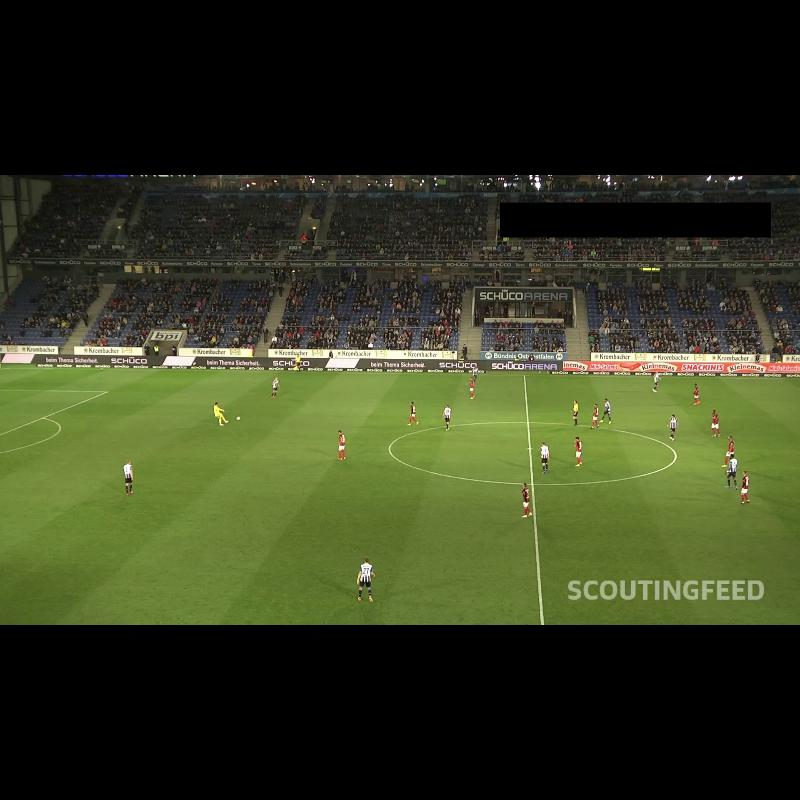cross_recipient_zone: (0, 390, 107, 435)
crossing_player_zone: (0, 368, 245, 393)
pitch: (0, 369, 800, 625)
